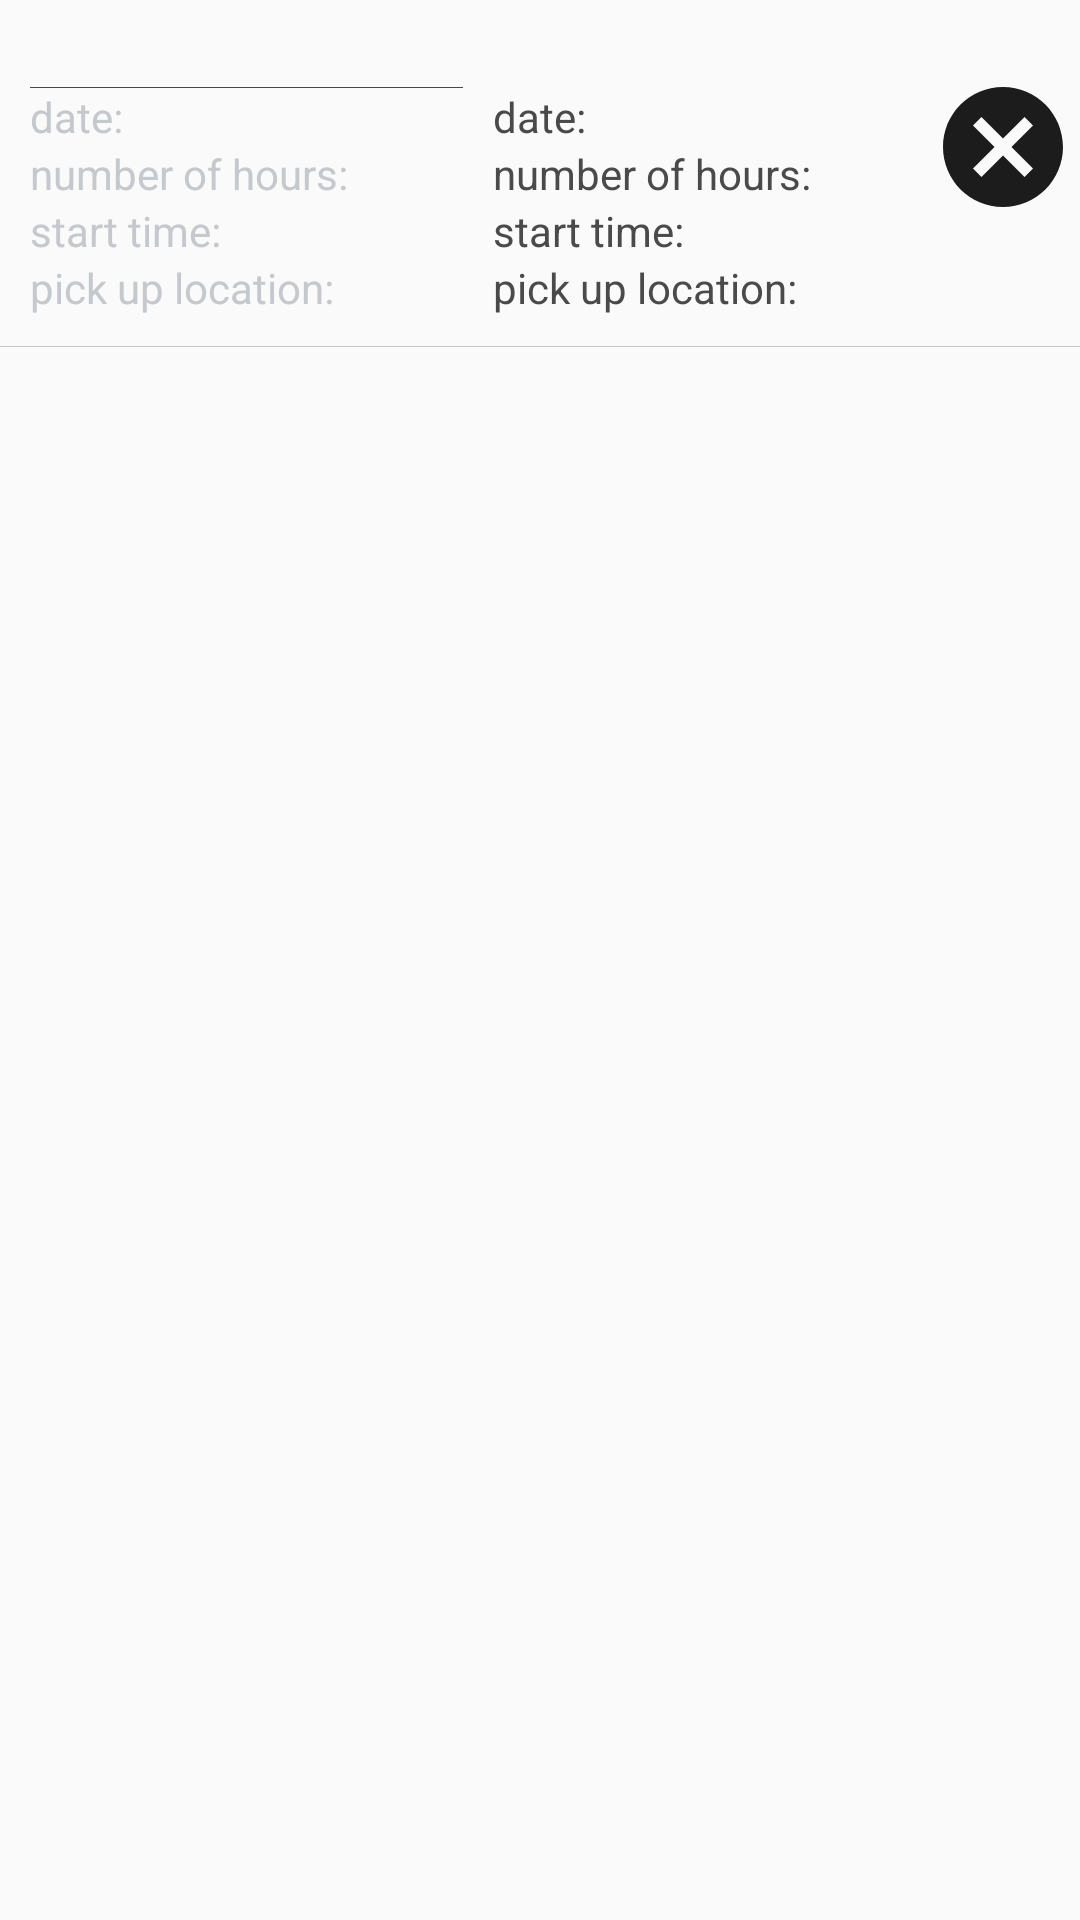

Where icons sit on this 1080*1920 app screen, as [x1,y1,x2,y2]:
canceldp: [943,87,1063,207]
